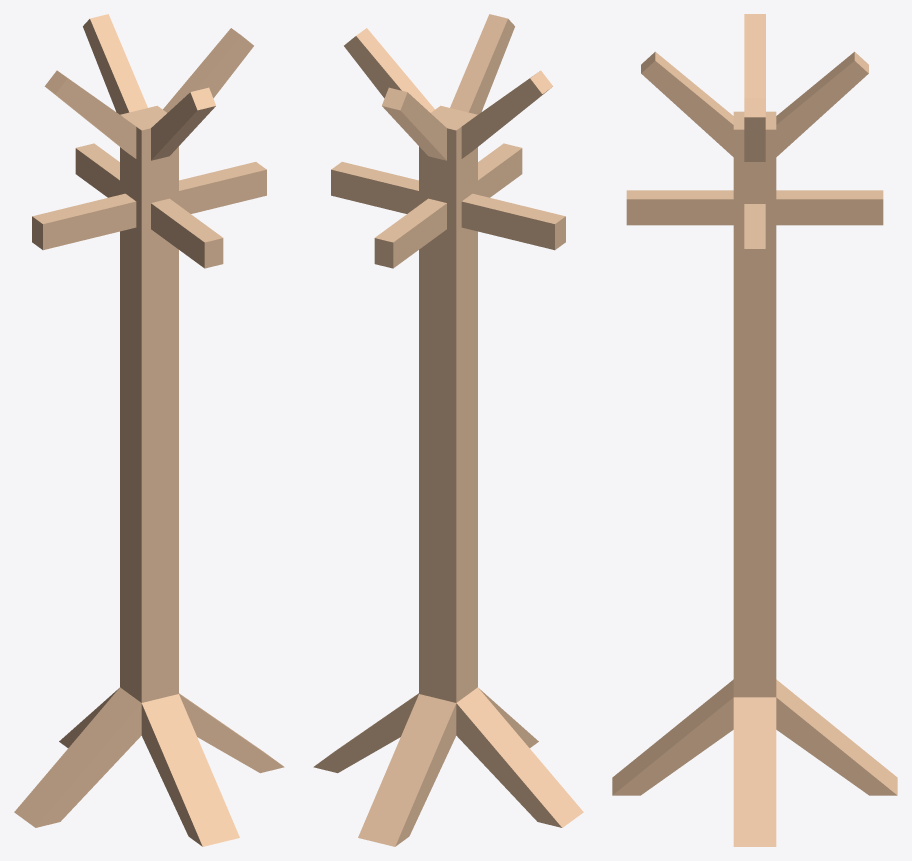
File: coatRackStanding.glb
3 views of the same model, side by side, from view 1: azimuth 30°, elevation 25°; view 2: azimuth 150°, elevation 25°; view 3: azimuth 270°, elevation 25° (orthographic).
Visible parts, largest first — view 1: coatRackStanding; view 2: coatRackStanding; view 3: coatRackStanding.
Part boxes in pixels (box(x1,y1,x2,y2)): coatRackStanding: box(14, 14, 284, 846); coatRackStanding: box(313, 14, 583, 846); coatRackStanding: box(612, 14, 897, 846).
Size of the model in its own units: 0.2727 by 0.77 by 0.2727.
